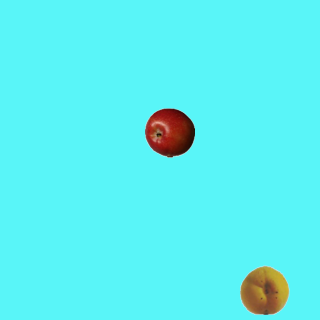Apple Braeburn: (144, 107, 194, 157)
Peach 2: (239, 264, 289, 314)
